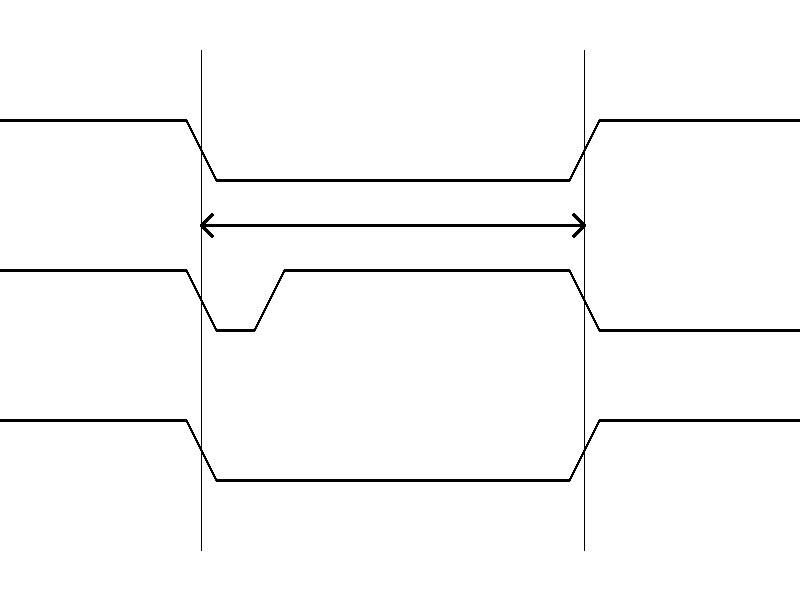double_arrow: (201, 210, 584, 240)
